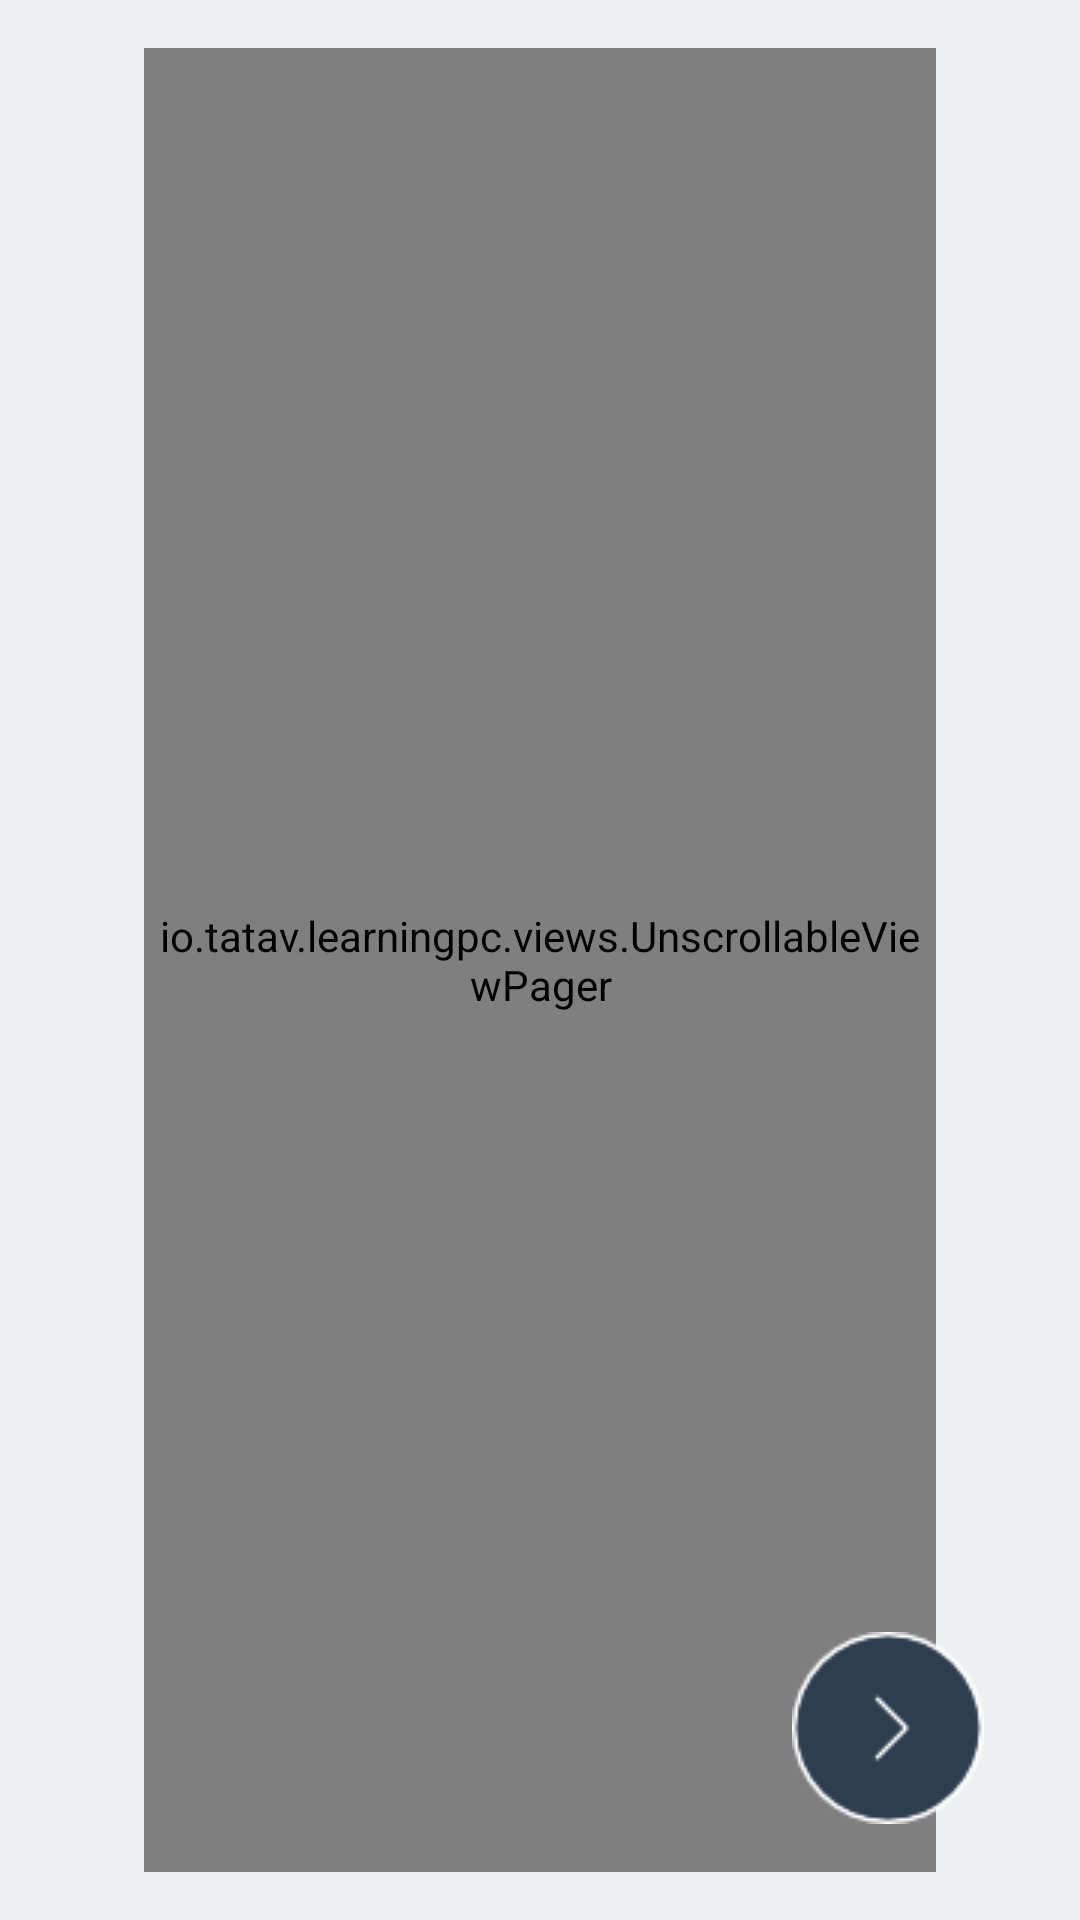

Where to tap for icons on this 1080w x 1920h app screen, as (x,y):
next: (888,1728)
